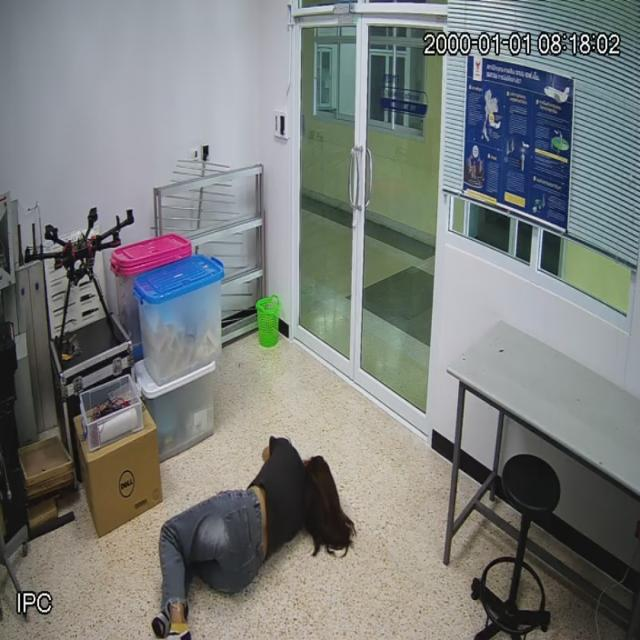fall: (156, 437, 354, 600)
